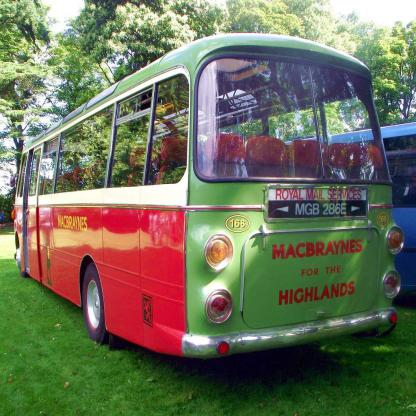Bus: (11, 33, 405, 359), (284, 121, 415, 293)
